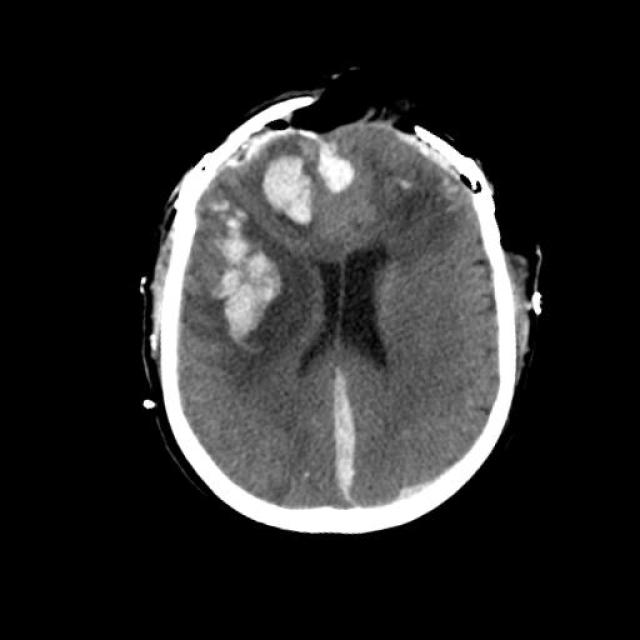Intraparenchymal: (166, 193, 310, 355), (244, 129, 385, 241)
Subdural: (293, 368, 418, 528)
